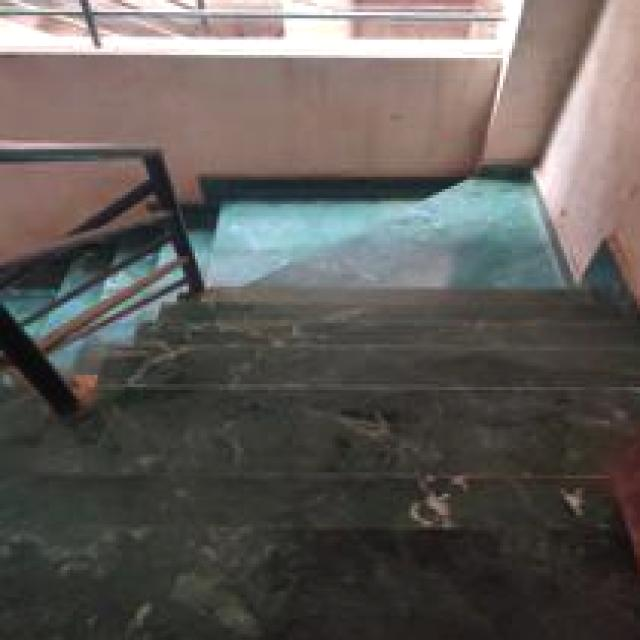downstair: (93, 361, 602, 617)
